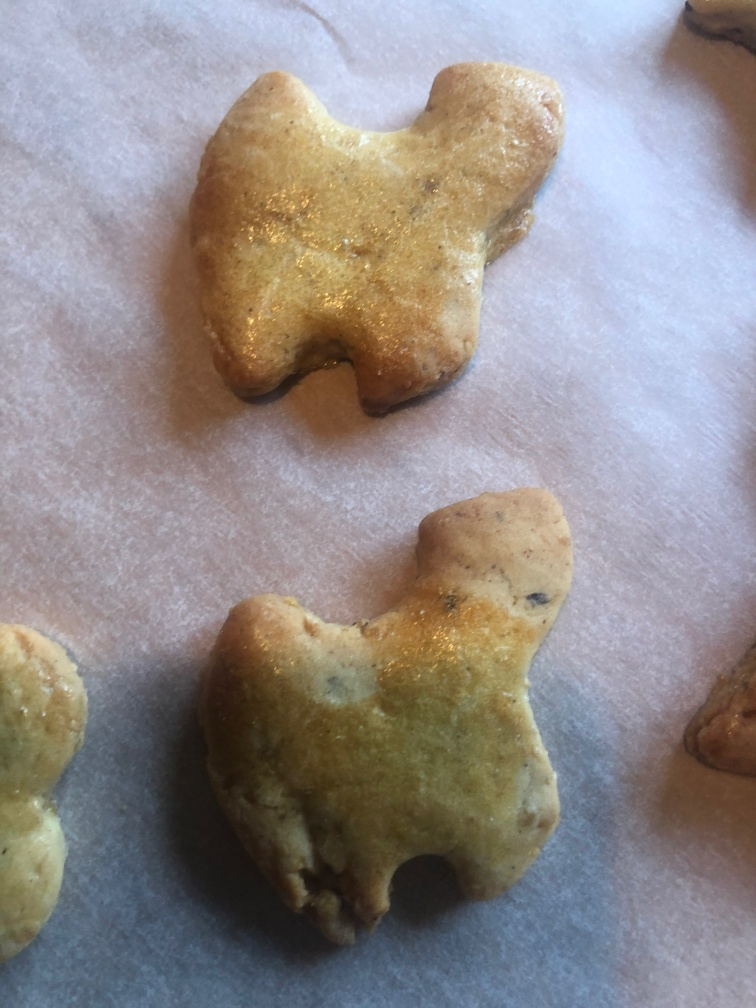lamb: (176, 482, 573, 950), (186, 57, 574, 422)
